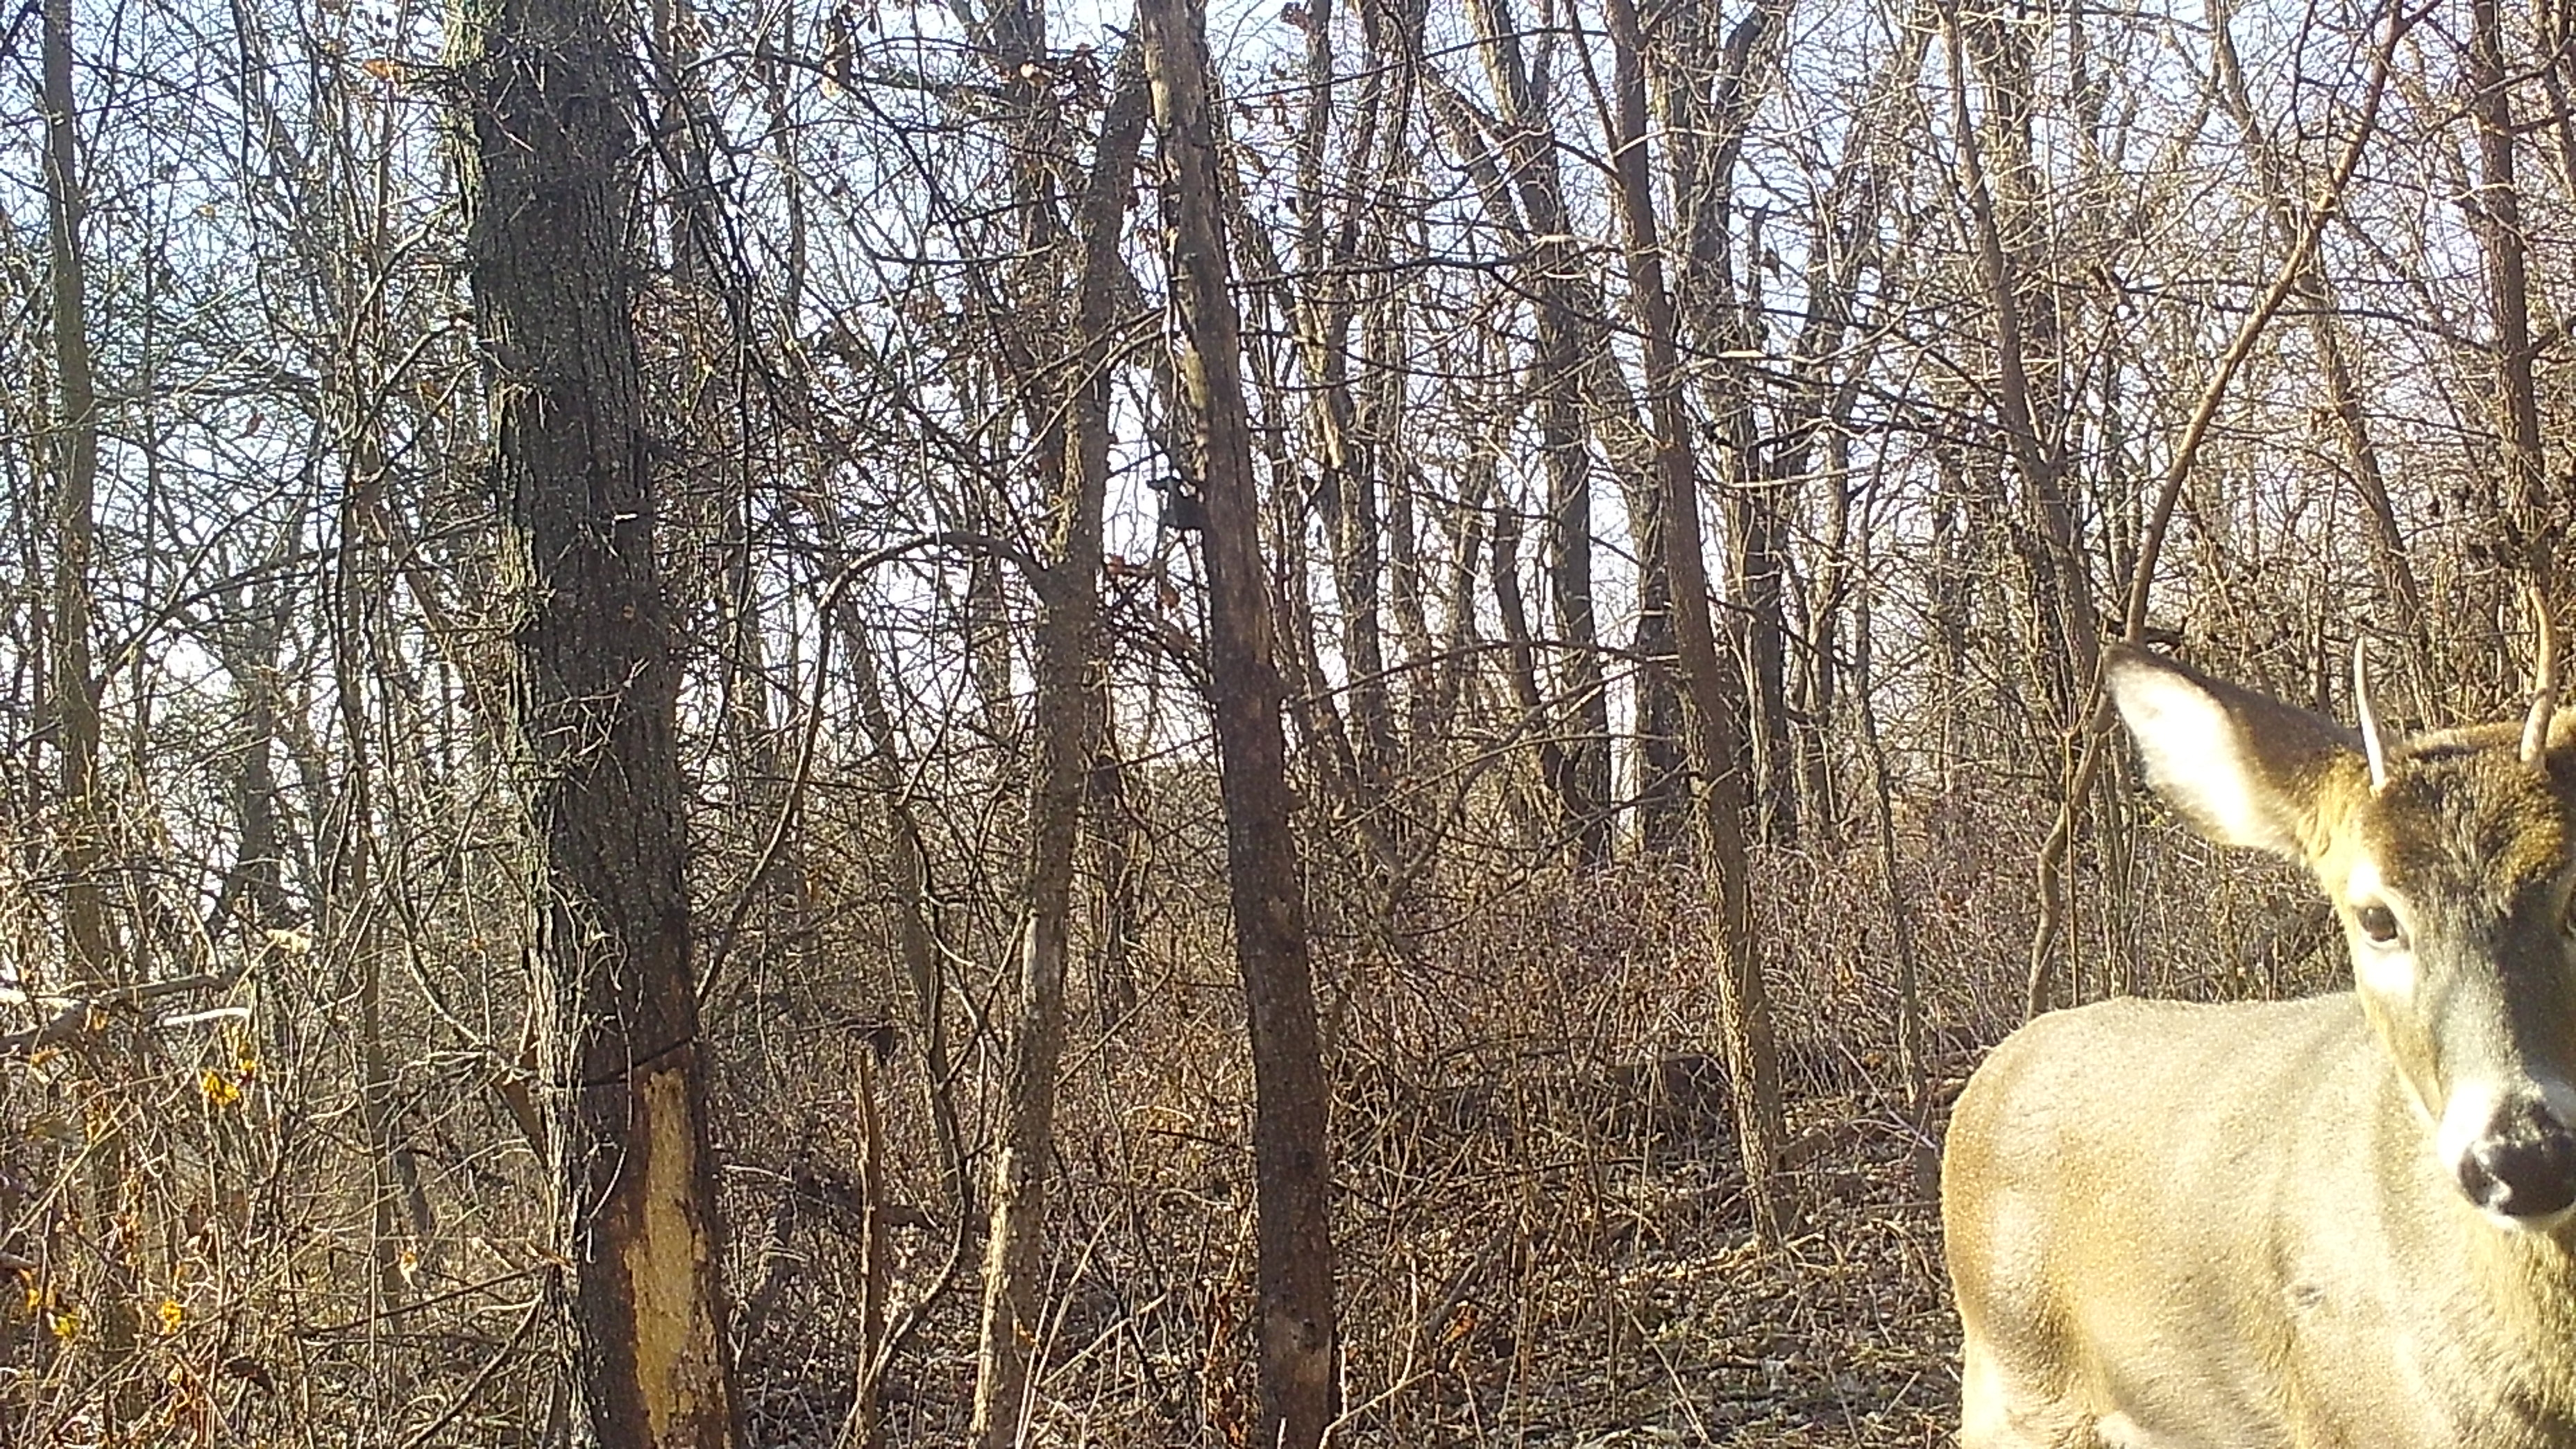DeerBuck: (1935, 575, 2575, 1447)
DeerBuckHead: (2099, 573, 2575, 1235)
